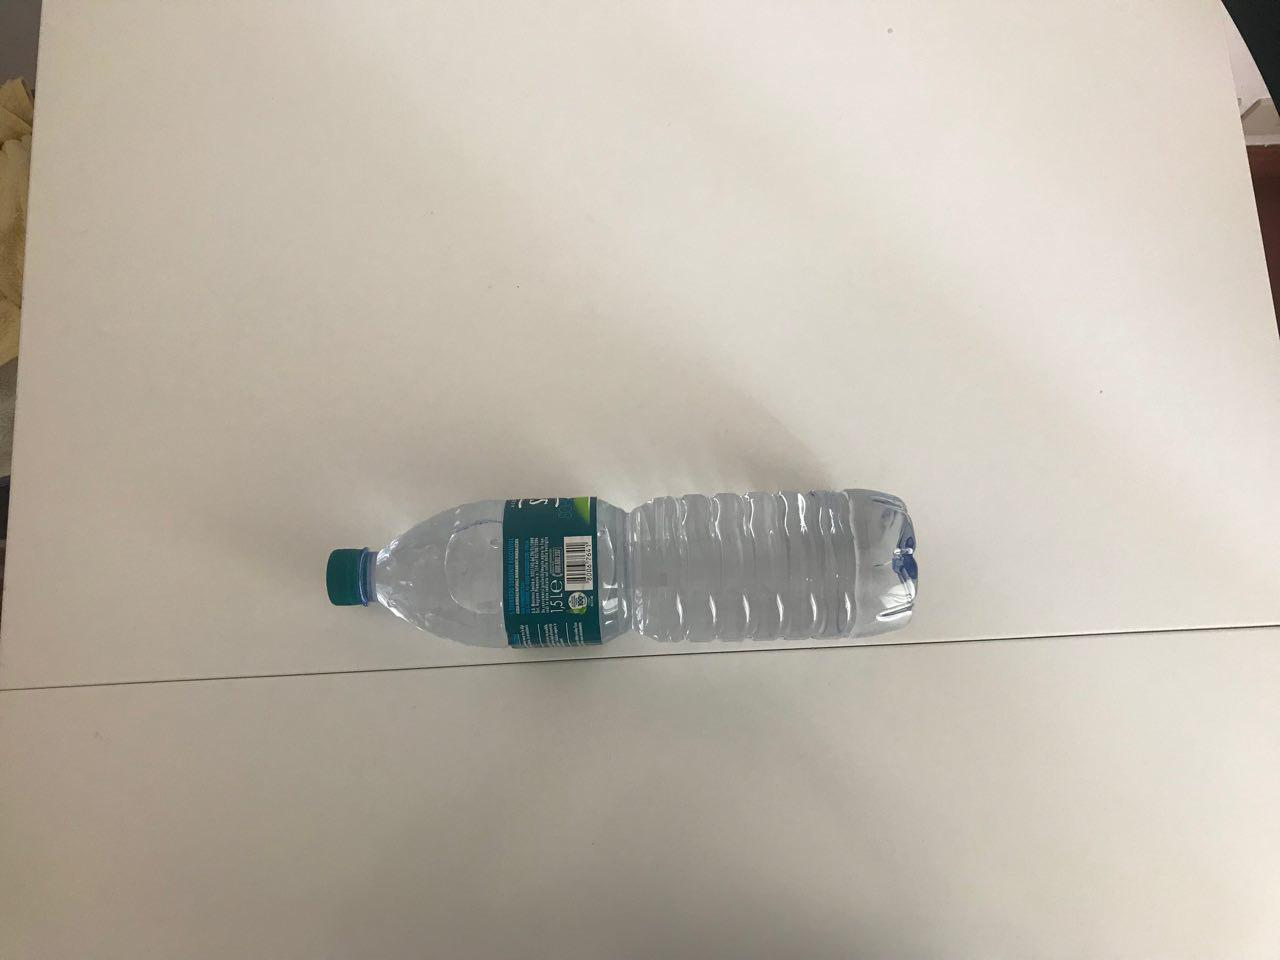san_bernardo: (323, 487, 920, 650)
